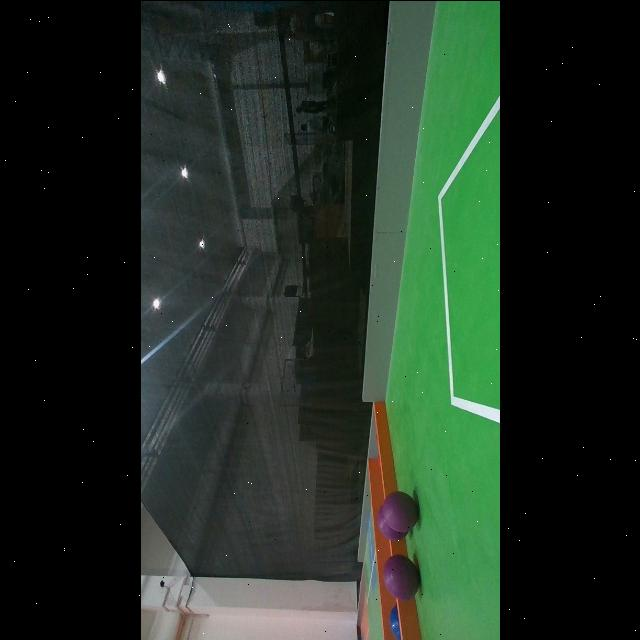P: (382, 554, 420, 600), (382, 491, 418, 532)
